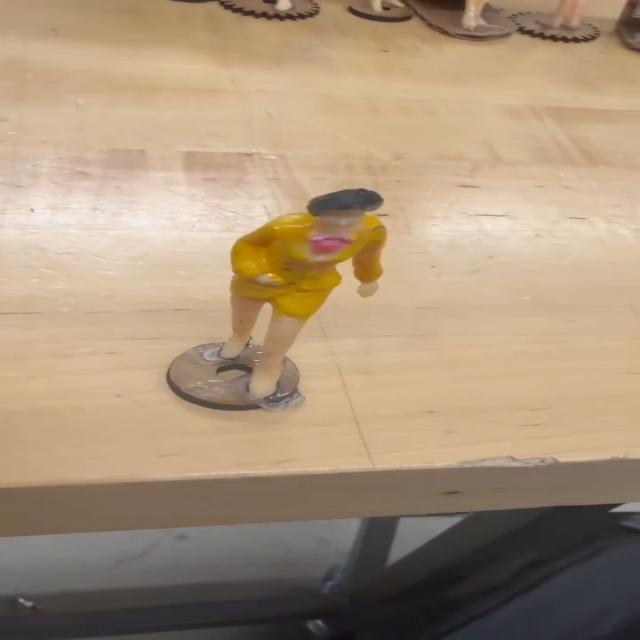Authorized: (222, 176, 421, 421)
